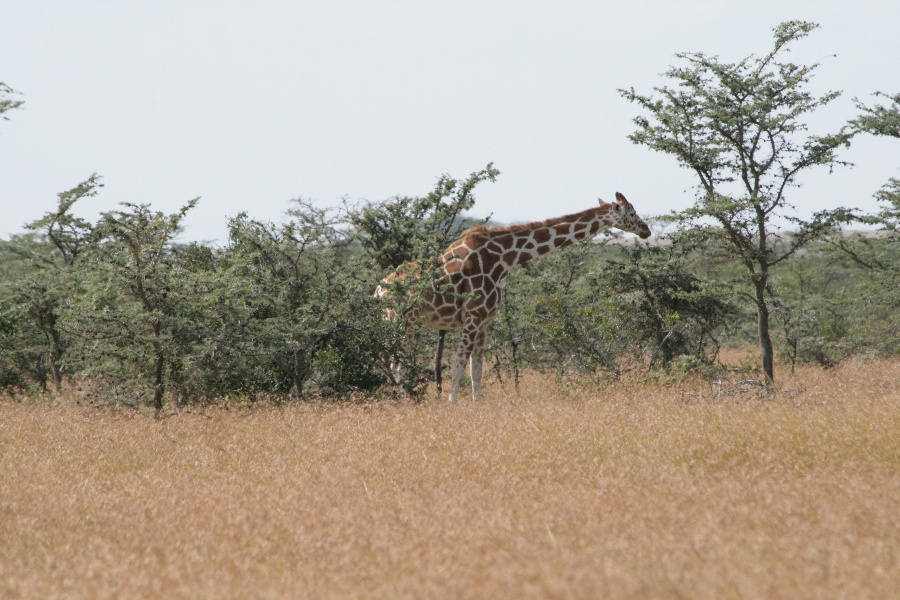giraffe: (367, 188, 652, 405)
